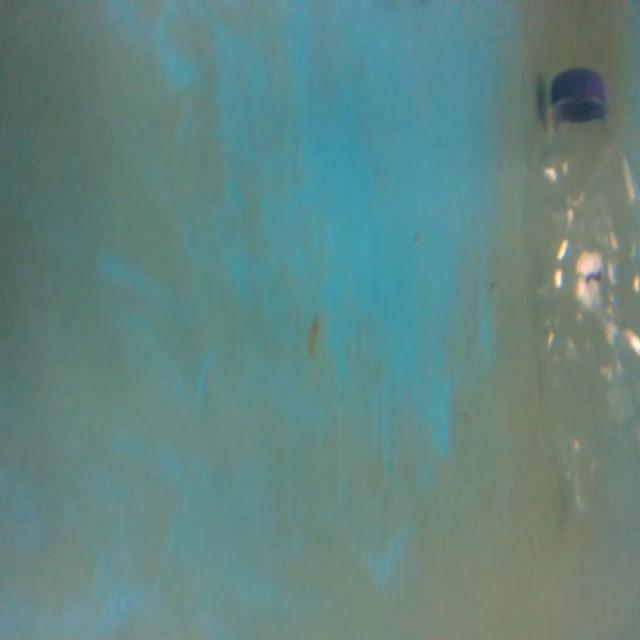plastic bottle: (532, 60, 640, 524)
